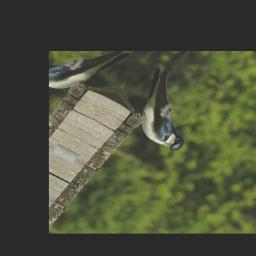Swallow: (111, 64, 225, 155)
